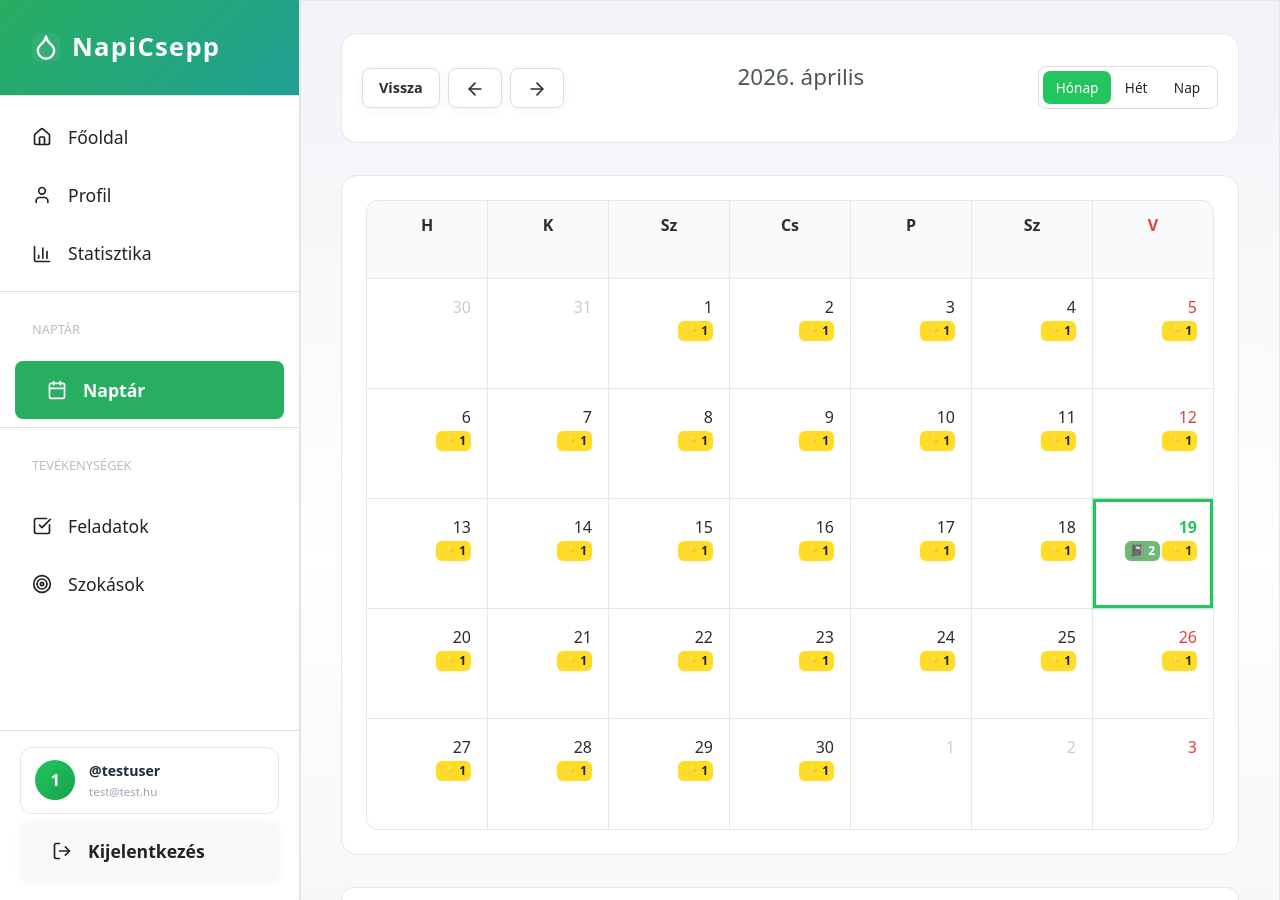
Naptár - Havi nézet popupok és CRUD › 18 - Nap popup 3 fület tartalmaz (Események, Feladatok, Szokások)
This screenshot has width=1280, height=900.
What coordinates should you click on to do the following:
click the element with class "current-day"
I would click on:
 (1153, 554)
Its box is [1093, 499, 1213, 608].
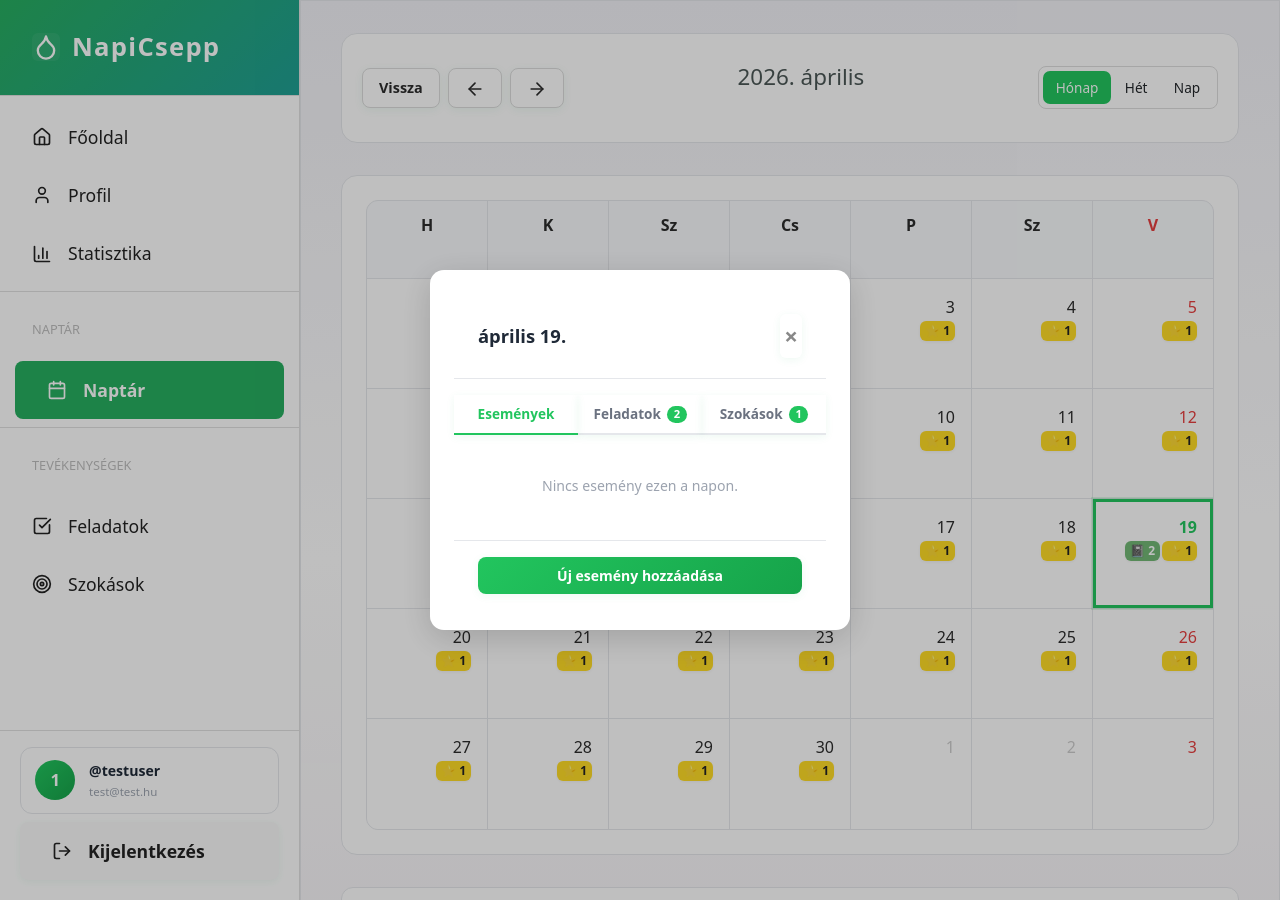
Expected: the button "Események" is shown, [454, 395, 578, 435]
Expected: the button "Feladatok 2" is shown, [578, 395, 702, 435]
Expected: the button "Szokások 1" is shown, [702, 395, 826, 435]
